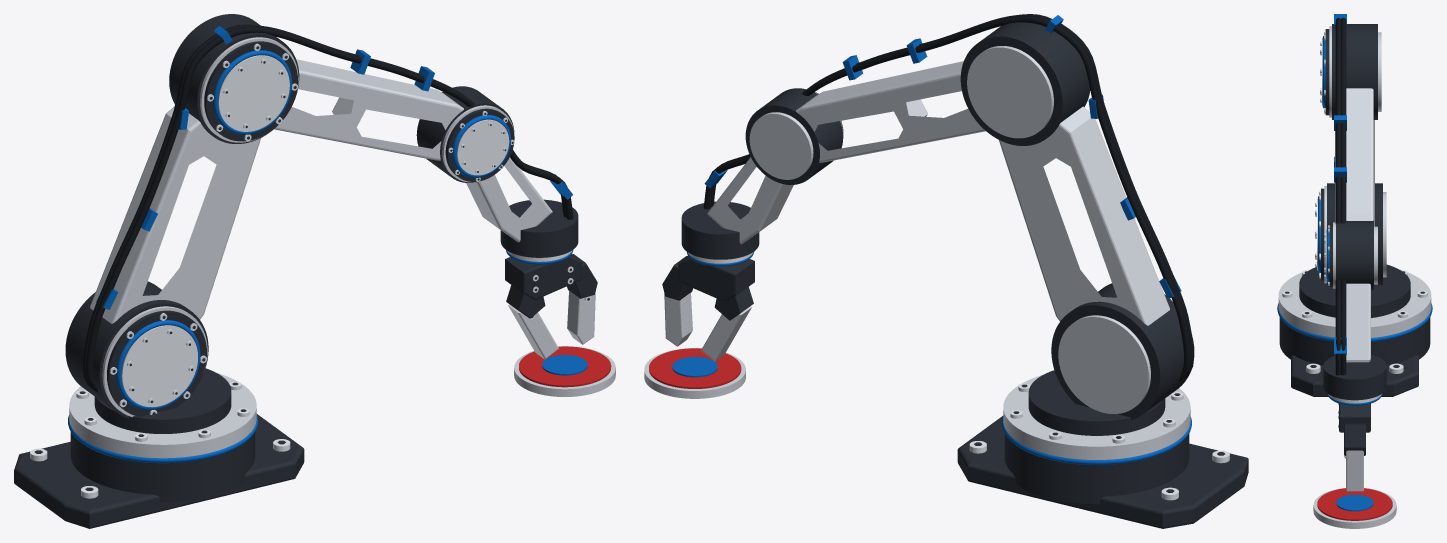
The model's file is anatomy-58.glb.
3 views of the same model, side by side, from view 1: azimuth 30°, elevation 25°; view 2: azimuth 150°, elevation 25°; view 3: azimuth 270°, elevation 25° (orthographic). The views are drawn at different scales.
Visible parts, largest first — view 1: base, shoulder-link, shoulder, elbow, forearm, harness, wrist, target, tool-collar, wrist-link, gripper-body, right-jaw (+2 smaller); view 2: base, shoulder-link, shoulder, elbow, forearm, harness, wrist, target, tool-collar, wrist-link, gripper-body, right-jaw (+2 smaller); view 3: base, elbow, forearm, harness, wrist, target, tool-collar, shoulder, wrist-link, right-jaw, gripper-body, harness-clips (+1 smaller).
Boxes of the visible parts, x1=… form: base: x1=14, y1=368, x2=304, y2=528; shoulder-link: x1=90, y1=106, x2=260, y2=323; shoulder: x1=65, y1=281, x2=208, y2=418; elbow: x1=169, y1=14, x2=299, y2=143; forearm: x1=274, y1=59, x2=463, y2=160; harness: x1=83, y1=24, x2=573, y2=392; wrist: x1=416, y1=86, x2=514, y2=182; target: x1=514, y1=346, x2=615, y2=396; tool-collar: x1=500, y1=199, x2=578, y2=264; wrist-link: x1=466, y1=157, x2=552, y2=242; gripper-body: x1=505, y1=254, x2=581, y2=299; right-jaw: x1=567, y1=254, x2=597, y2=344; base: x1=957, y1=370, x2=1248, y2=528; shoulder-link: x1=999, y1=106, x2=1169, y2=325; shoulder: x1=1051, y1=283, x2=1194, y2=420; elbow: x1=960, y1=22, x2=1090, y2=145; forearm: x1=796, y1=61, x2=985, y2=162; harness: x1=703, y1=14, x2=1193, y2=381; wrist: x1=745, y1=88, x2=843, y2=184; target: x1=644, y1=348, x2=745, y2=398; tool-collar: x1=681, y1=201, x2=759, y2=266; wrist-link: x1=707, y1=157, x2=793, y2=244; gripper-body: x1=678, y1=256, x2=754, y2=301; right-jaw: x1=662, y1=256, x2=692, y2=346; base: x1=1277, y1=264, x2=1432, y2=396; elbow: x1=1320, y1=24, x2=1381, y2=119; forearm: x1=1346, y1=88, x2=1373, y2=220; harness: x1=1335, y1=17, x2=1346, y2=375; wrist: x1=1324, y1=220, x2=1377, y2=290; target: x1=1313, y1=488, x2=1396, y2=528; tool-collar: x1=1323, y1=354, x2=1386, y2=405; shoulder: x1=1315, y1=183, x2=1386, y2=285; wrist-link: x1=1346, y1=283, x2=1370, y2=362; right-jaw: x1=1344, y1=423, x2=1365, y2=491; gripper-body: x1=1338, y1=403, x2=1370, y2=432; harness-clips: x1=1334, y1=14, x2=1346, y2=354.
Size of the model in its own units: 4.91 by 3.62 by 1.42.
